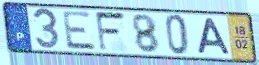0: (164, 13, 192, 57)
3: (31, 6, 62, 52)
8: (131, 13, 161, 54)
A: (196, 17, 233, 57)
E: (60, 10, 99, 52)
F: (93, 10, 128, 53)
